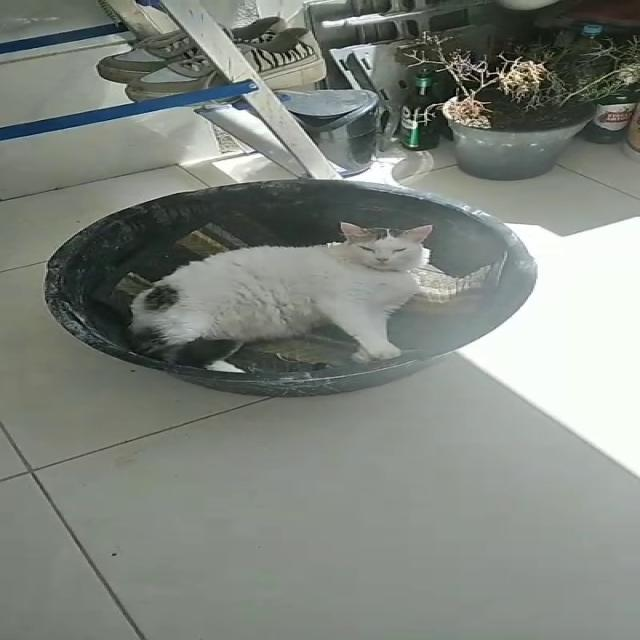Simba: (145, 221, 513, 359)
